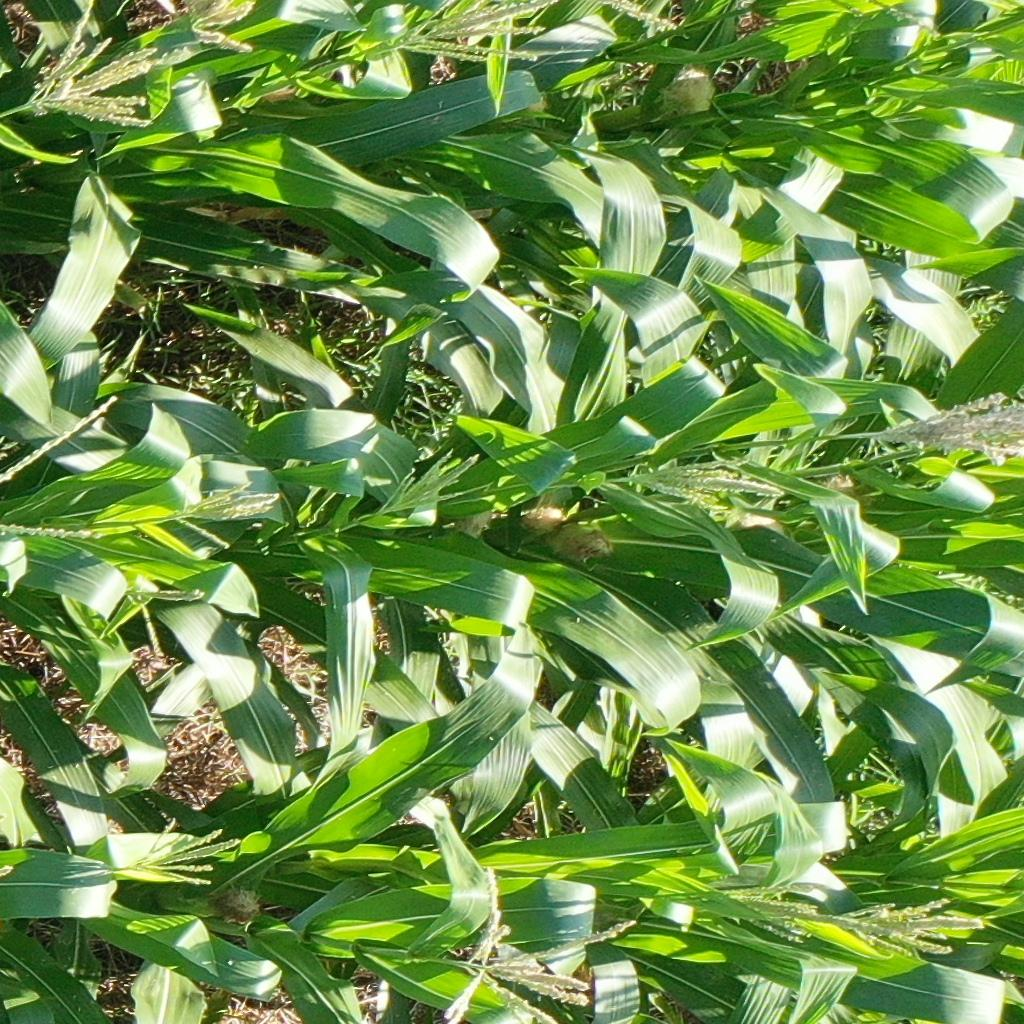Tassel: (437, 866, 641, 1024), (7, 391, 125, 550), (27, 1, 157, 130), (870, 389, 1024, 471), (815, 888, 983, 962), (396, 1, 564, 74), (632, 457, 786, 530), (707, 874, 858, 947), (127, 816, 243, 889), (178, 477, 277, 562), (378, 450, 481, 524), (185, 1, 264, 58), (605, 1, 680, 39)
